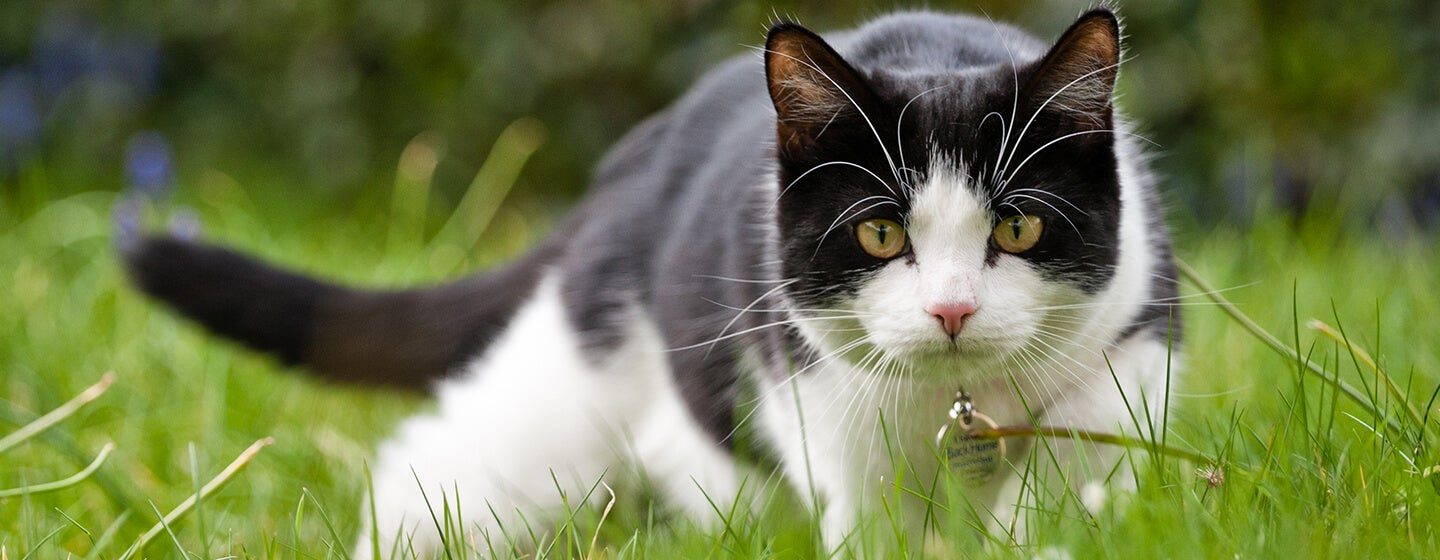Cat: (146, 18, 1254, 552)
